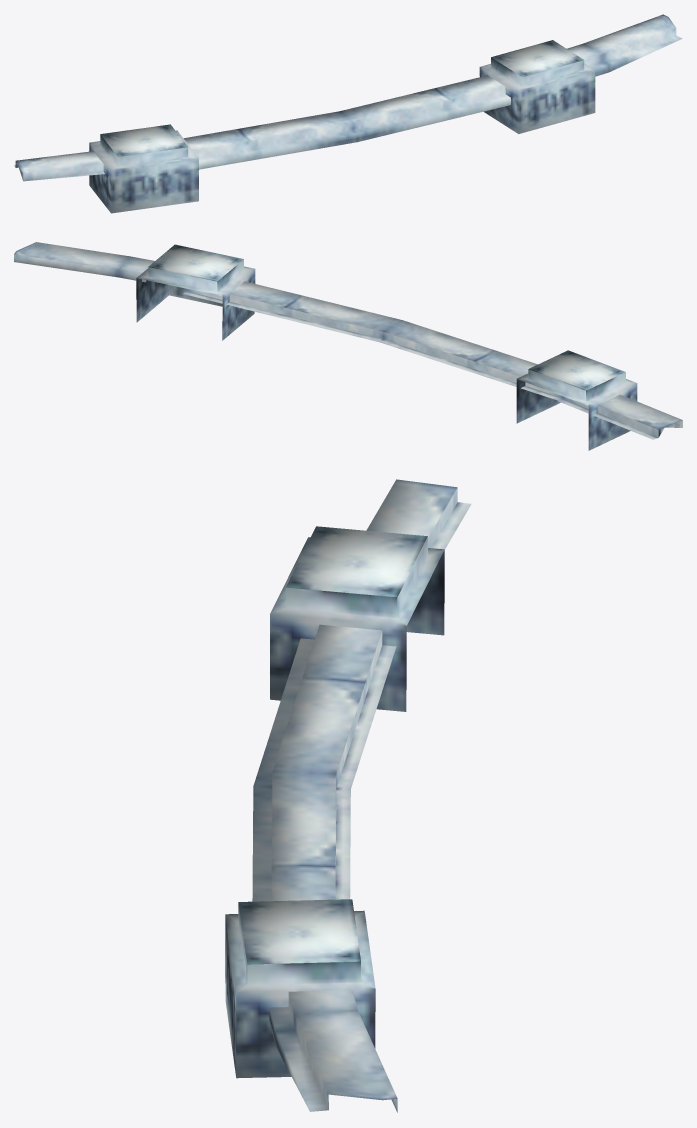
The model's file is S_Build_Snowland205_A3.FBX.
3 renders of one model, top to bottom at view 1: azimuth 30°, elevation 25°; view 2: azimuth 150°, elevation 25°; view 3: azimuth 270°, elevation 25°, orthographic. The views are drawn at different scales.
Parts seen in each view (by area): view 1: S_Build_Snowland205_A3; view 2: S_Build_Snowland205_A3; view 3: S_Build_Snowland205_A3.
Part boxes in pixels (box(x1,y1,x2,y2)): S_Build_Snowland205_A3: box(14, 14, 682, 213); S_Build_Snowland205_A3: box(14, 242, 682, 450); S_Build_Snowland205_A3: box(225, 479, 471, 1112).
Size of the model in its own units: 1082 by 85.24 by 180.
Materials: 1 (1 with a texture image).
